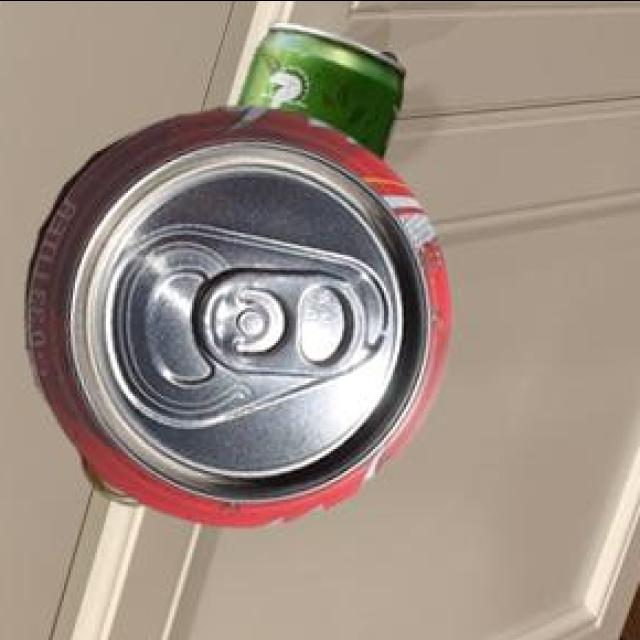logam: (23, 103, 447, 522), (235, 19, 401, 156), (78, 452, 140, 502)
